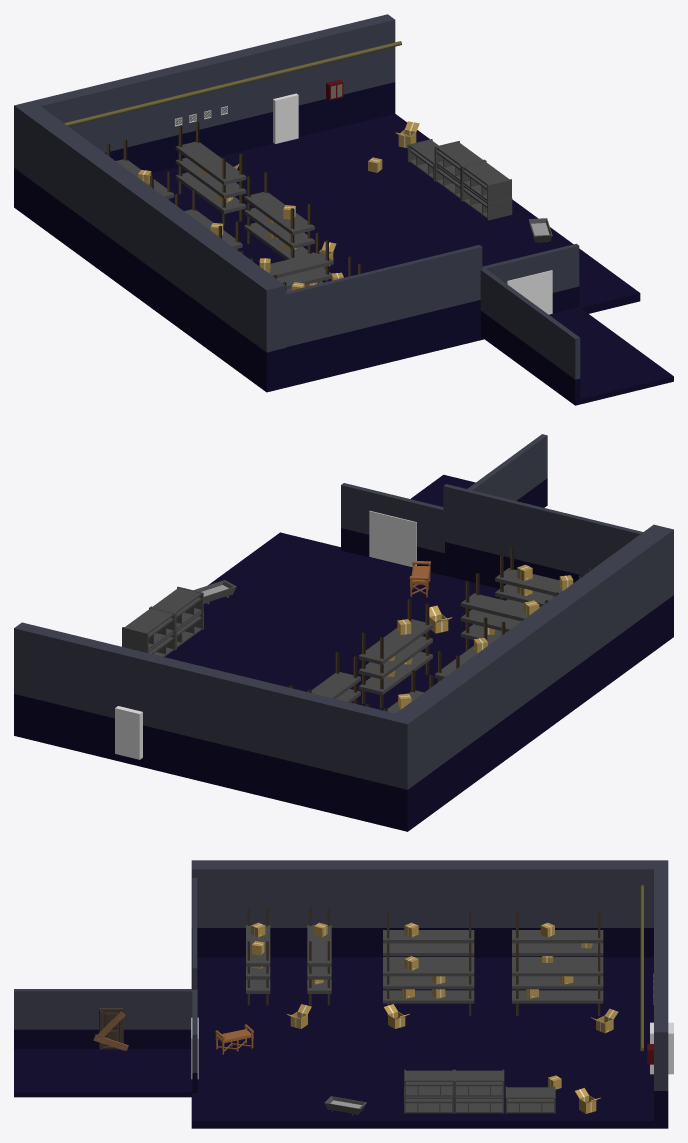
The model's file is room4.fbx.
3 views of the same model, one above another, from view 1: azimuth 30°, elevation 25°; view 2: azimuth 150°, elevation 25°; view 3: azimuth 270°, elevation 25° (orthographic). The views are drawn at different scales.
Visible parts, largest first — view 1: Cube.001, Cube.002, Cube.003, Cube.008, Cube.010, Cube.011, Cylinder, Shelf_Small2.004, Cube, Cube.004, Shelf_Small2.003, Shelf_Small2.002 (+3 smaller); view 2: Cube.001, Cube.002, Cube.003, Cube.010, Cube.011, Cube, Cube.012, Shelf_Small2.003, Cube.004, Cube.008, Shelf_Small2.004, Cube.009 (+1 smaller); view 3: Cube.001, Cube.003, Cube.008, Cube.010, Cube.009, Cube.007, Cube.011, Cube.012, Shelf_Small2.003, Shelf_Small2.004, Shelf_Small2.001, Shelf_Small2 (+7 smaller).
Part boxes in pixels (x1,y1,x2,y2): Cube.001: (14, 14, 640, 392); Cube.002: (286, 245, 482, 379); Cube.003: (480, 243, 673, 405); Cube.008: (175, 122, 246, 226); Cube.010: (244, 172, 314, 259); Cube.011: (240, 232, 333, 291); Cylinder: (64, 41, 401, 126); Shelf_Small2.004: (461, 160, 511, 203); Cube: (507, 270, 552, 314); Cube.004: (273, 93, 298, 143); Shelf_Small2.003: (434, 141, 484, 183); Shelf_Small2.002: (461, 184, 512, 220); Cube.001: (14, 524, 673, 831); Cube.002: (443, 484, 642, 588); Cube.003: (341, 434, 547, 575); Cube.010: (358, 599, 432, 708); Cube.011: (460, 573, 558, 651); Cube: (369, 511, 416, 566); Cube.012: (495, 548, 593, 607); Shelf_Small2.003: (122, 607, 175, 652); Cube.004: (115, 706, 142, 759); Cube.008: (289, 651, 360, 703); Shelf_Small2.004: (150, 586, 203, 631); Cube.009: (434, 617, 505, 682); Cube.001: (191, 860, 668, 1128); Cube.003: (14, 989, 197, 1097); Cube.008: (512, 944, 603, 1015); Cube.010: (383, 944, 474, 1015); Cube.009: (383, 911, 474, 962); Cube.007: (512, 911, 603, 962); Cube.011: (307, 906, 331, 1005); Cube.012: (246, 906, 270, 1005); Shelf_Small2.003: (454, 1069, 504, 1097); Shelf_Small2.004: (404, 1069, 454, 1097); Shelf_Small2.001: (505, 1086, 555, 1113); Shelf_Small2: (454, 1096, 504, 1113).
Bounding box in the file's own units: 5190 × 1355 × 8416.
